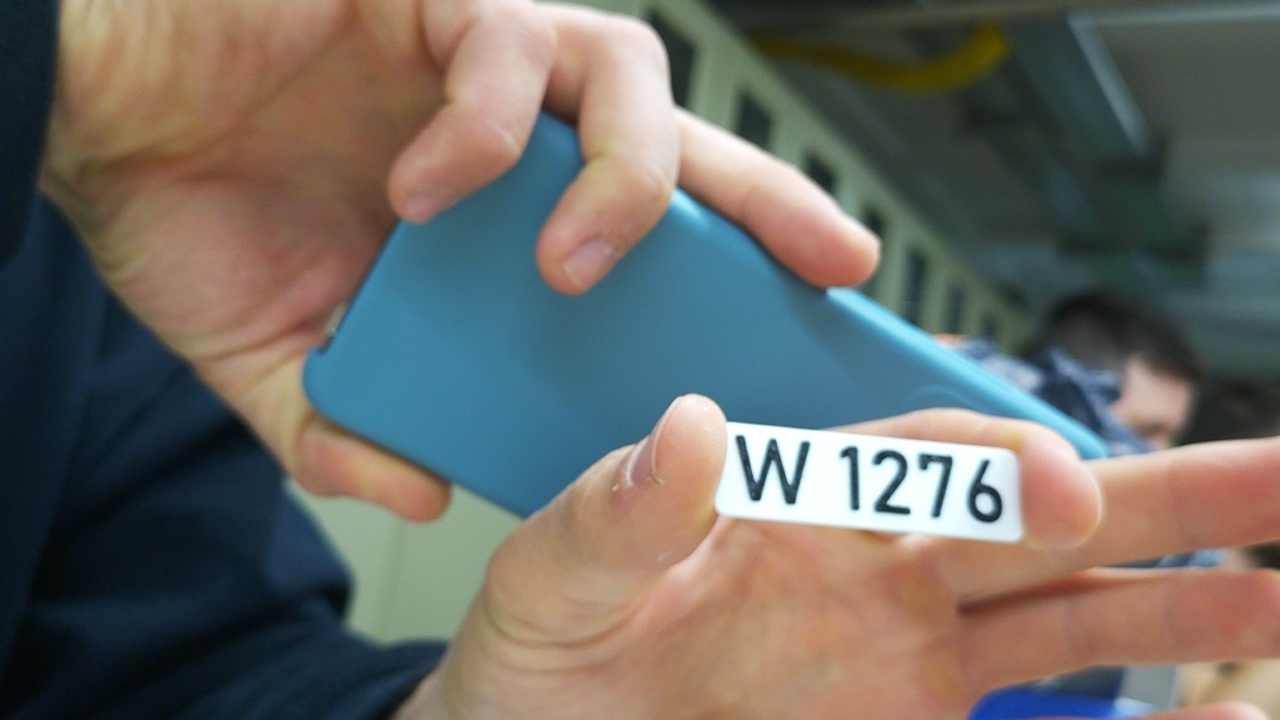license_plate: (711, 418, 1030, 545)
